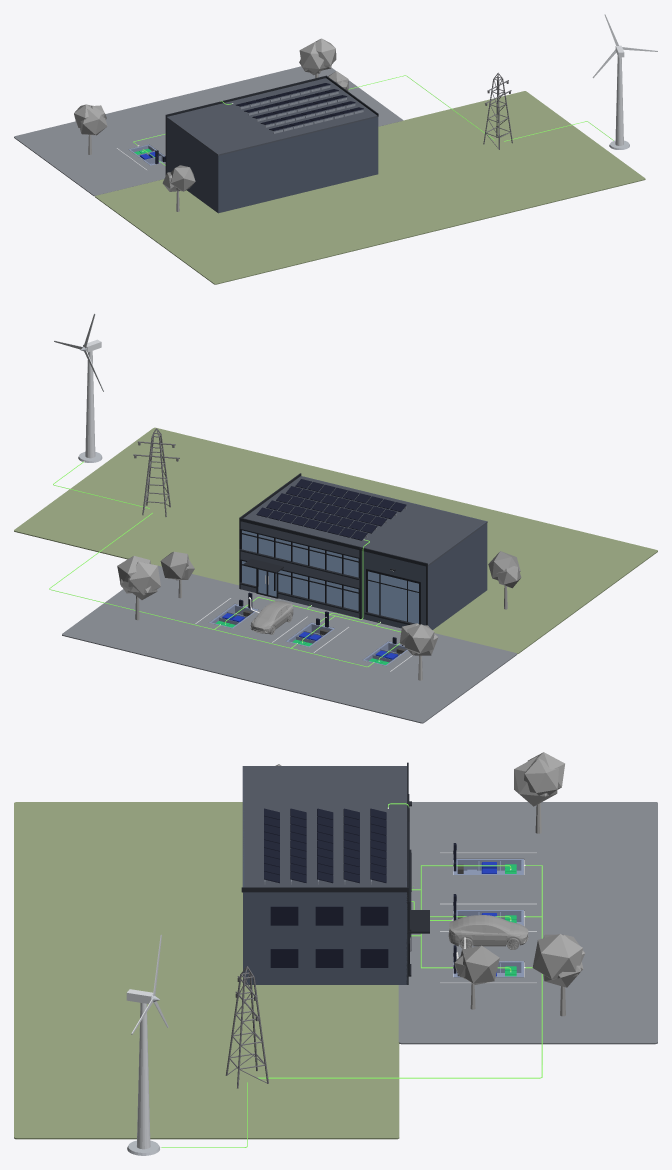
Rendered from sett-slide-datacenter.glb.
3 renders of one model, top to bottom at view 1: azimuth 30°, elevation 25°; view 2: azimuth 150°, elevation 25°; view 3: azimuth 270°, elevation 25°, orthographic. The views are drawn at different scales.
Parts seen in each view (by area): view 1: slide-datacenter, officeDatacenter, windTurbine, tree_2, tree_3, tree_1; view 2: slide-datacenter, officeDatacenter, tree_2, windTurbine, tree_3, car, tree_1, tree_0; view 3: slide-datacenter, officeDatacenter, windTurbine, tree_2, car, tree_3, tree_0, BAK_met_RIBS.
Boxes of the visible parts, x1=… form: slide-datacenter: x1=14, y1=66, x2=645, y2=284; officeDatacenter: x1=165, y1=75, x2=378, y2=213; windTurbine: x1=592, y1=14, x2=657, y2=149; tree_2: x1=299, y1=38, x2=336, y2=78; tree_3: x1=74, y1=104, x2=107, y2=154; tree_1: x1=162, y1=165, x2=195, y2=211; slide-datacenter: x1=14, y1=427, x2=657, y2=723; officeDatacenter: x1=239, y1=473, x2=487, y2=629; tree_2: x1=117, y1=556, x2=160, y2=620; windTurbine: x1=54, y1=313, x2=104, y2=462; tree_3: x1=399, y1=623, x2=438, y2=680; car: x1=250, y1=601, x2=293, y2=634; tree_1: x1=488, y1=551, x2=521, y2=609; tree_0: x1=160, y1=551, x2=194, y2=598; slide-datacenter: x1=14, y1=802, x2=657, y2=1147; officeDatacenter: x1=241, y1=762, x2=429, y2=984; windTurbine: x1=126, y1=935, x2=168, y2=1155; tree_2: x1=532, y1=934, x2=585, y2=1016; car: x1=448, y1=915, x2=528, y2=949; tree_3: x1=514, y1=752, x2=564, y2=833; tree_0: x1=454, y1=945, x2=499, y2=1009; BAK_met_RIBS: x1=453, y1=859, x2=523, y2=874.
Size of the model in its own units: 5119 by 1395 by 3725.
